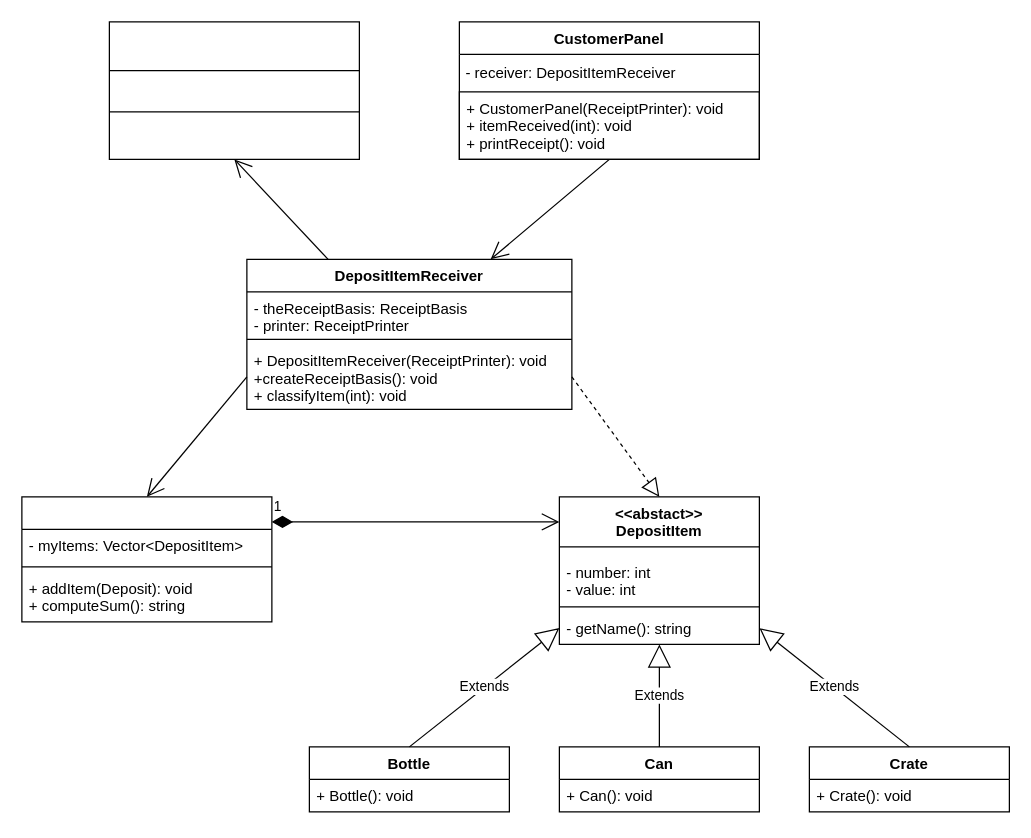
The diagram is 1031 pixels wide and 838 high, and some of its shapes have lost their labels. Each missing label, with the box of its shape:
ReceiptBasis: (21, 496, 272, 622)
«interface» ReceiptPrinter + print(string): void: (108, 21, 359, 159)
